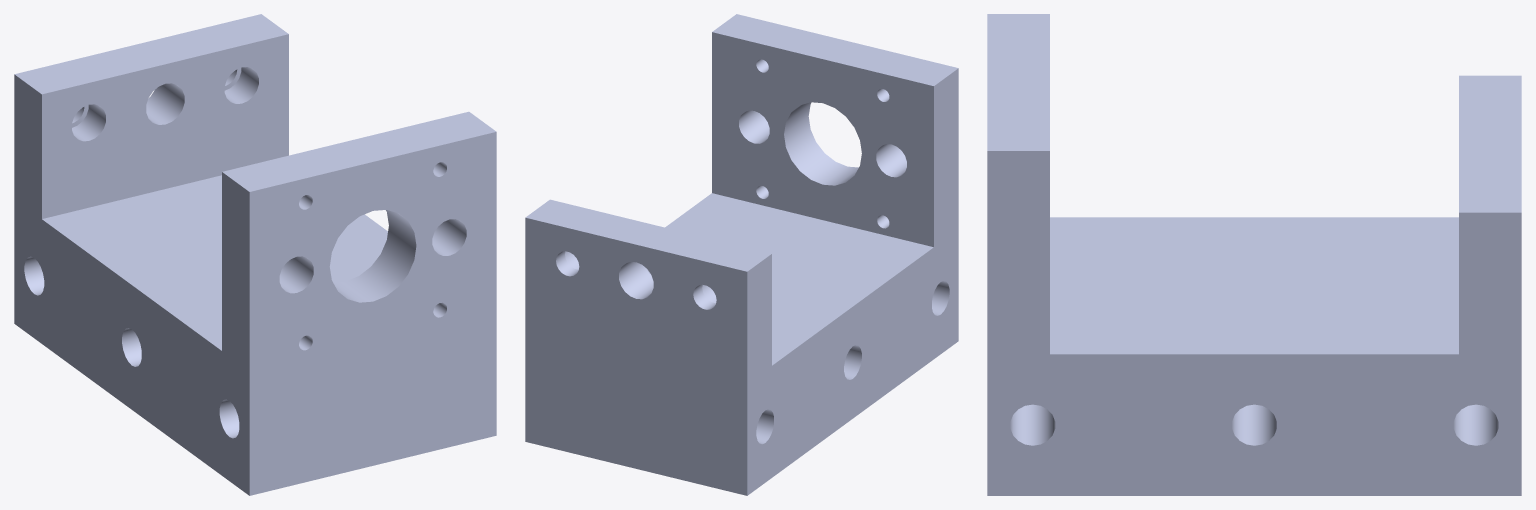
Rendered from x_carriage.FBX.
3 views of the same model, side by side, from view 1: azimuth 30°, elevation 25°; view 2: azimuth 150°, elevation 25°; view 3: azimuth 270°, elevation 25° (orthographic). The views are drawn at different scales.
Parts seen in each view (by area): view 1: stitch_result_stitch all; view 2: stitch_result_stitch all; view 3: stitch_result_stitch all.
Boxes of the visible parts, x1,y1,x2,y2 form: stitch_result_stitch all: (14,14,496,495); stitch_result_stitch all: (525,14,958,495); stitch_result_stitch all: (987,14,1521,495).
Bounding box in the file's own units: 2.24 × 2.64 × 3.7.
